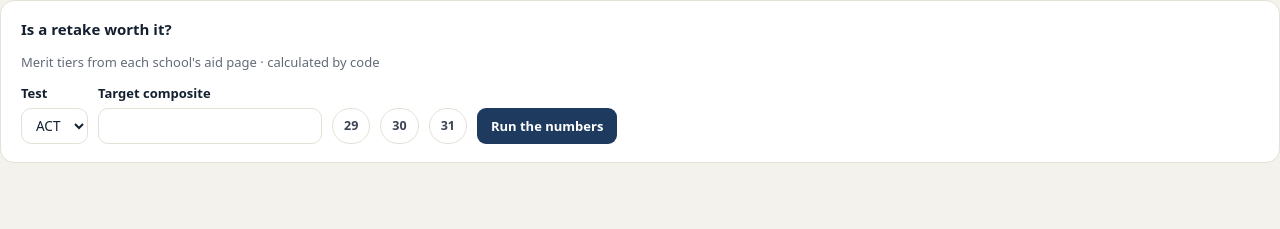
Test: RetakeForm › shows the allowance message with a See plans link on 402 (CR-10, E-16-6)
The image size is (1280, 229).
Step 1. Click the button "29" → (351, 126), box [332,108,370,144]
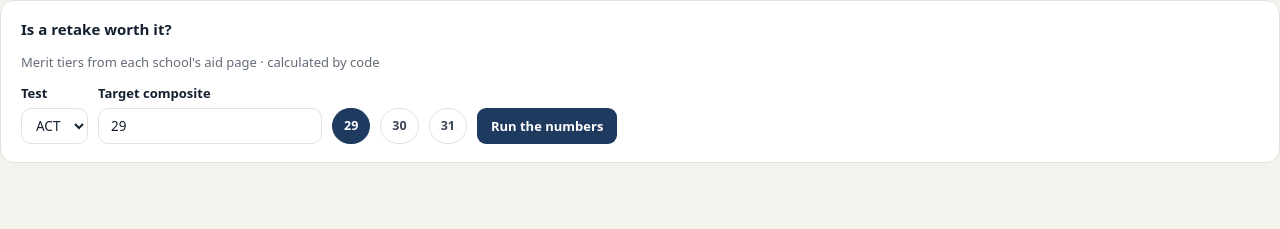
Step 2. Click the button "Run the numbers" → (547, 126), box [477,108,617,144]
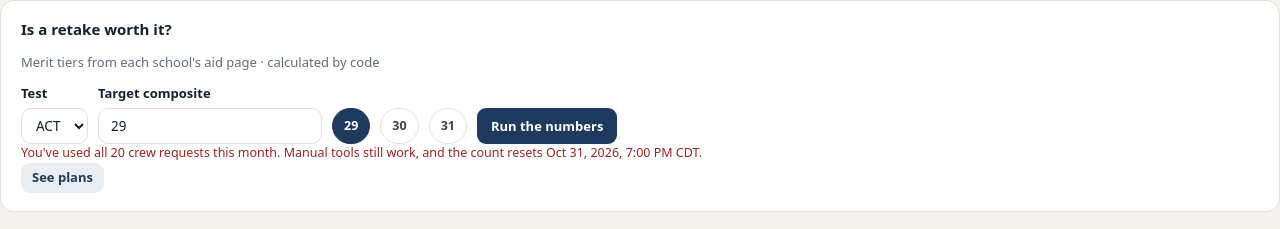
Check: the message shows "You've used all 20 crew requests this month. Manual tools still work, and the count resets Oct 31, 2026, 7:00 PM CDT.", box [21,144,702,161]
Step 3. Replace the text in the field labelled "Target composite" with "40" → (210, 126), box [98,108,322,144]
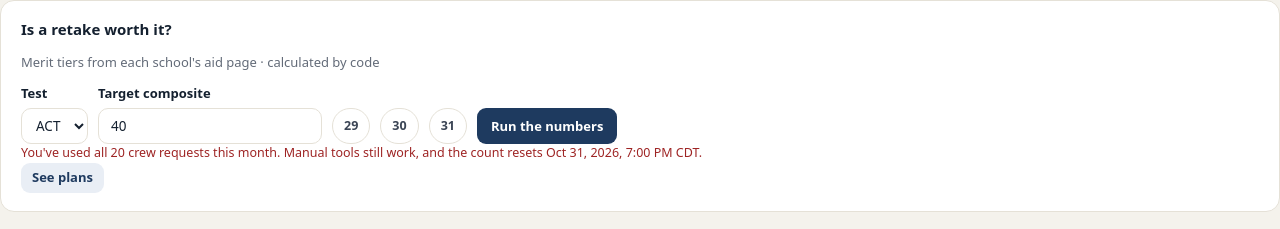
Step 4. Click the button "Run the numbers" → (547, 126), box [477,108,617,144]
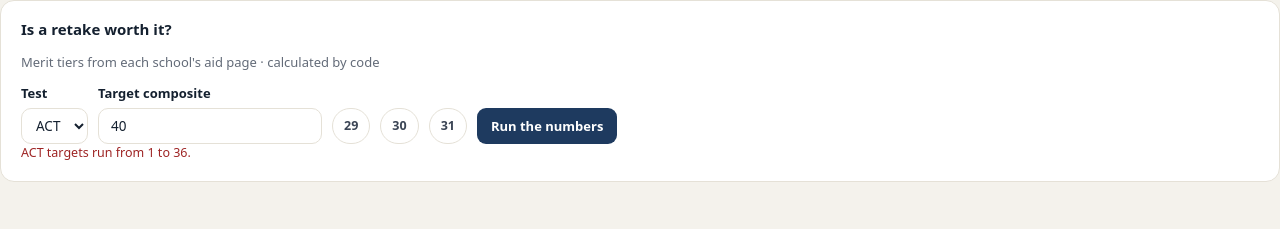
Check: the message reads "ACT targets run from 1 to 36.", box [21,144,191,161]
Check: the link "See plans" is gone
